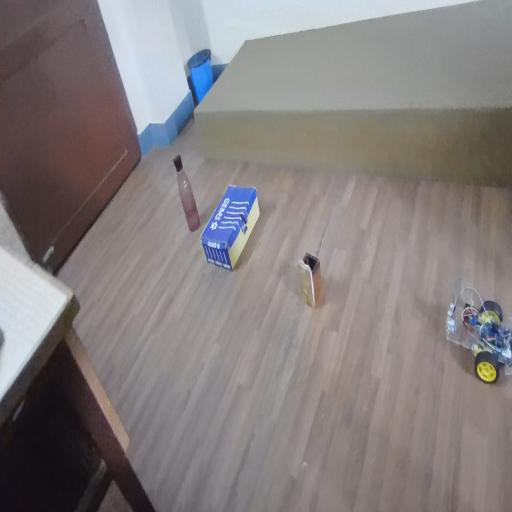Bottle: (167, 147, 201, 236)
car: (441, 276, 512, 386)
